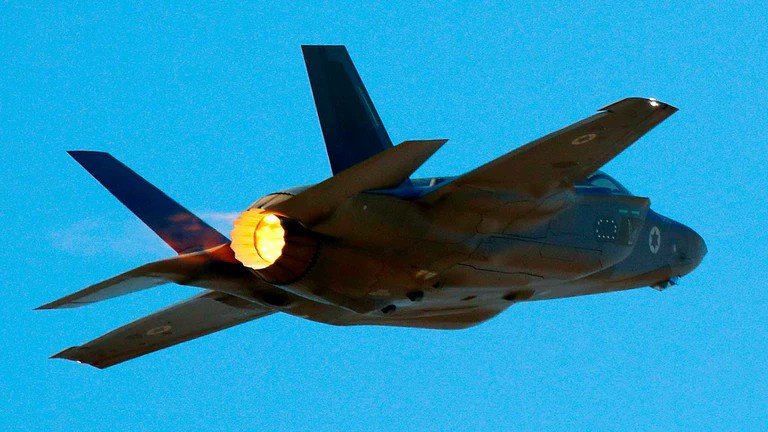F-35 Lightning: (20, 41, 713, 376)
